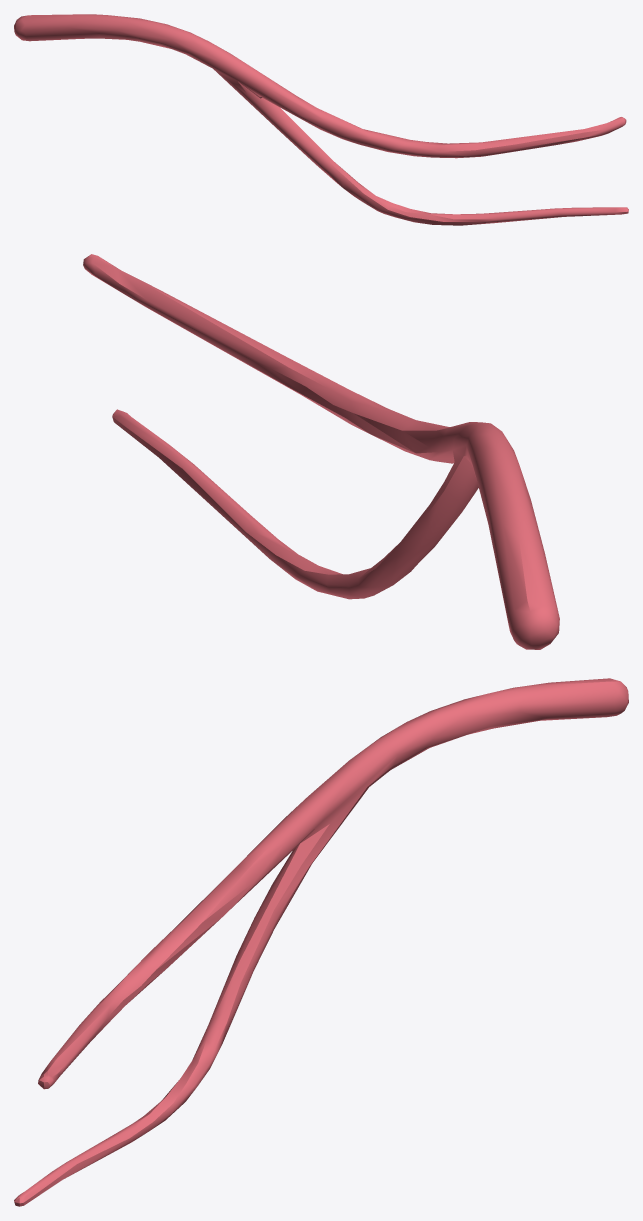
The model's file is fma49568_fj5095.glb.
The picture shows the model from 3 angles, top to bottom: view 1: azimuth 30°, elevation 25°; view 2: azimuth 150°, elevation 25°; view 3: azimuth 270°, elevation 25°; orthographic projection. The views are drawn at different scales.
Parts seen in each view (by area): view 1: FMA49568_FJ5095; view 2: FMA49568_FJ5095; view 3: FMA49568_FJ5095.
Boxes of the visible parts, box(x1,y1,x2,y2) form: FMA49568_FJ5095: box(14, 14, 628, 225); FMA49568_FJ5095: box(83, 254, 559, 649); FMA49568_FJ5095: box(14, 678, 628, 1206).
Size of the model in its own units: 0.0363 by 0.0147 by 0.0302.
